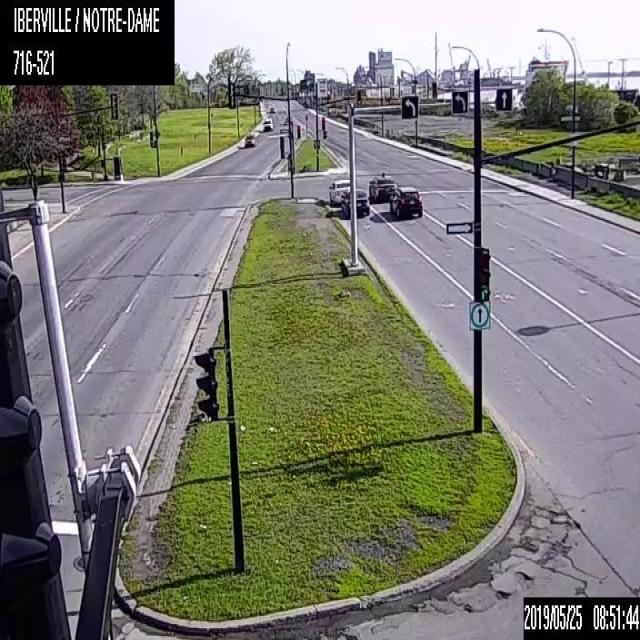vehicle: (389, 185, 422, 217), (368, 171, 397, 201), (341, 188, 369, 216), (328, 176, 350, 202), (243, 133, 254, 147), (282, 115, 292, 124), (263, 119, 272, 129), (268, 105, 276, 112)
